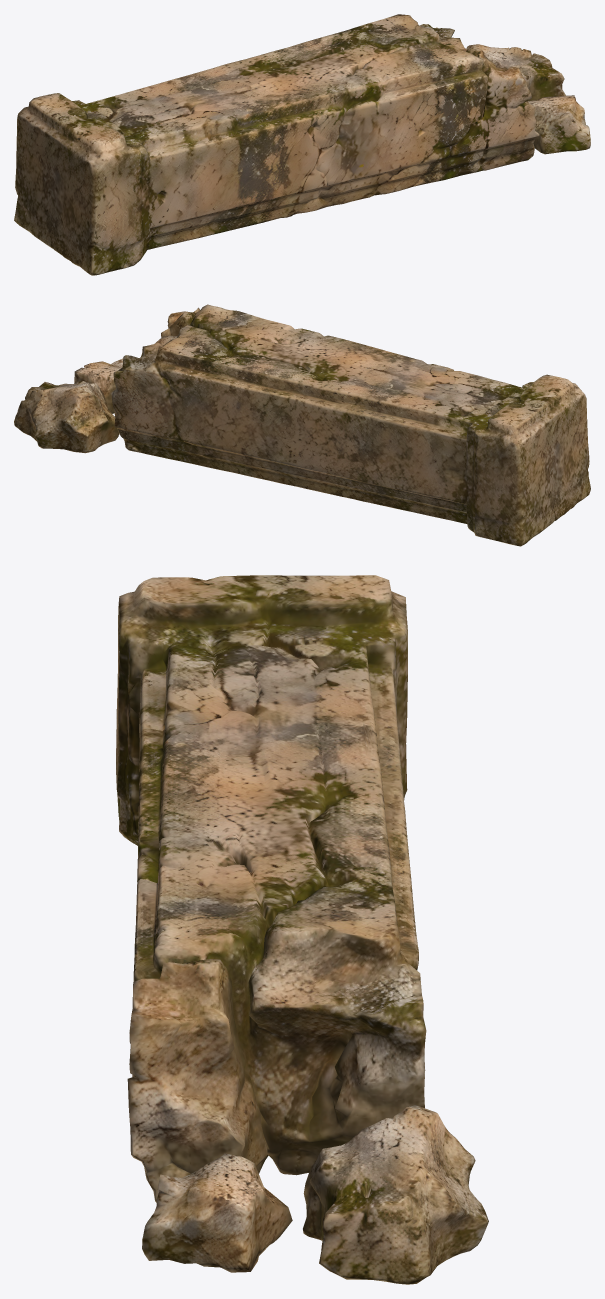
The model's file is ARQ_ColumnaDerrumbada_01_LOD0.fbx.
3 views of the same model, one above another, from view 1: azimuth 30°, elevation 25°; view 2: azimuth 150°, elevation 25°; view 3: azimuth 270°, elevation 25° (orthographic). The views are drawn at different scales.
Visible parts, largest first — view 1: ARQ_ColumnaDerrumbada_01_Mesh000; view 2: ARQ_ColumnaDerrumbada_01_Mesh000; view 3: ARQ_ColumnaDerrumbada_01_Mesh000.
Part boxes in pixels (left/top/right/bottom): ARQ_ColumnaDerrumbada_01_Mesh000: left=14, top=14, right=590, bottom=275; ARQ_ColumnaDerrumbada_01_Mesh000: left=14, top=304, right=590, bottom=546; ARQ_ColumnaDerrumbada_01_Mesh000: left=116, top=575, right=488, bottom=1284.
Bounding box in the file's own units: 3.2 × 0.7099 × 1.03.
